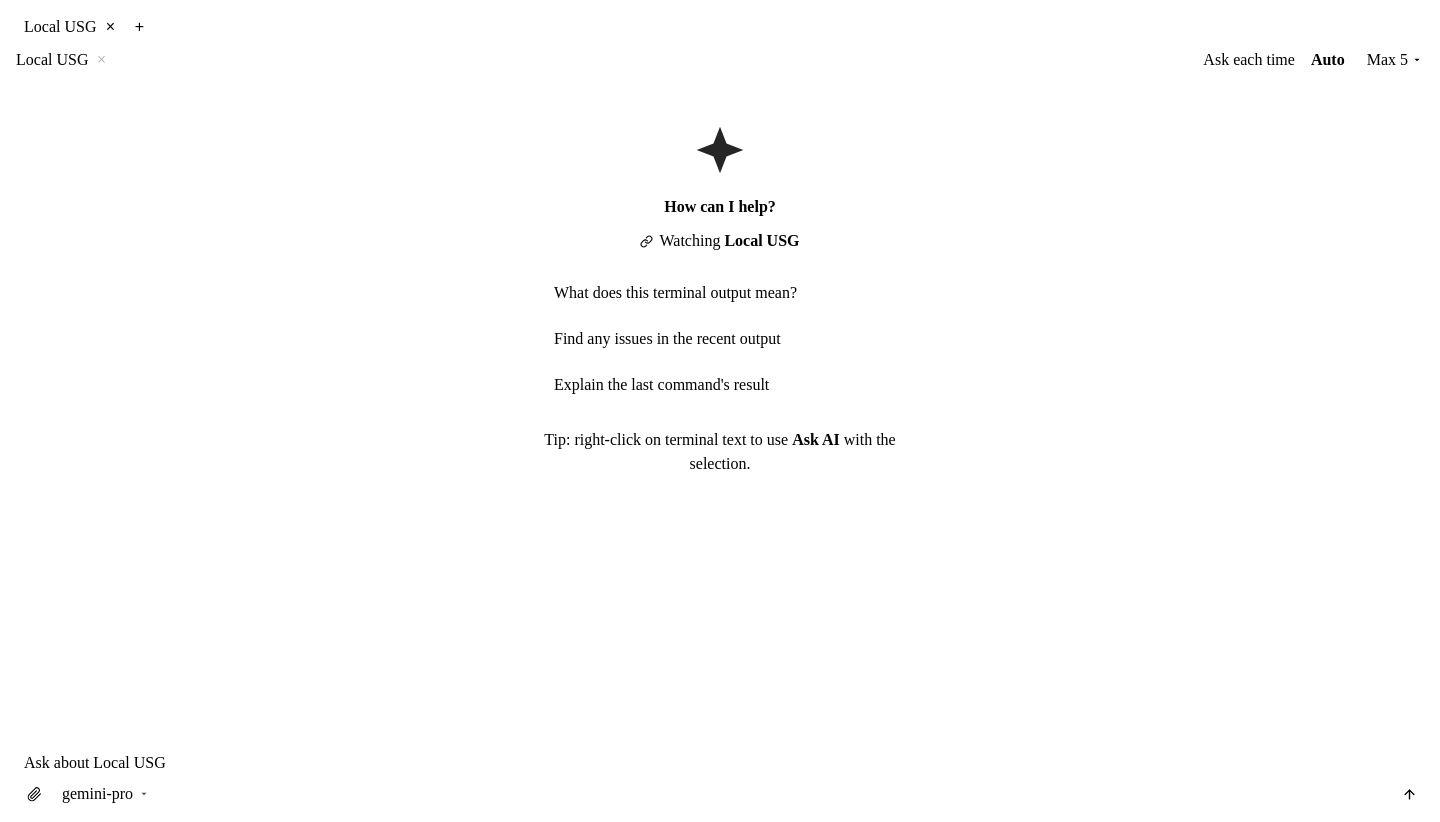
AIChatPane connect card — gate outcomes › auto-opens a PC shell under local-auto in auto-execute mode
Type "ping the gateway" into the text box with placeholder "Ask about Local USG".
click(721, 762); type("ping the gateway")  # box left=20, top=748, right=1422, bottom=776
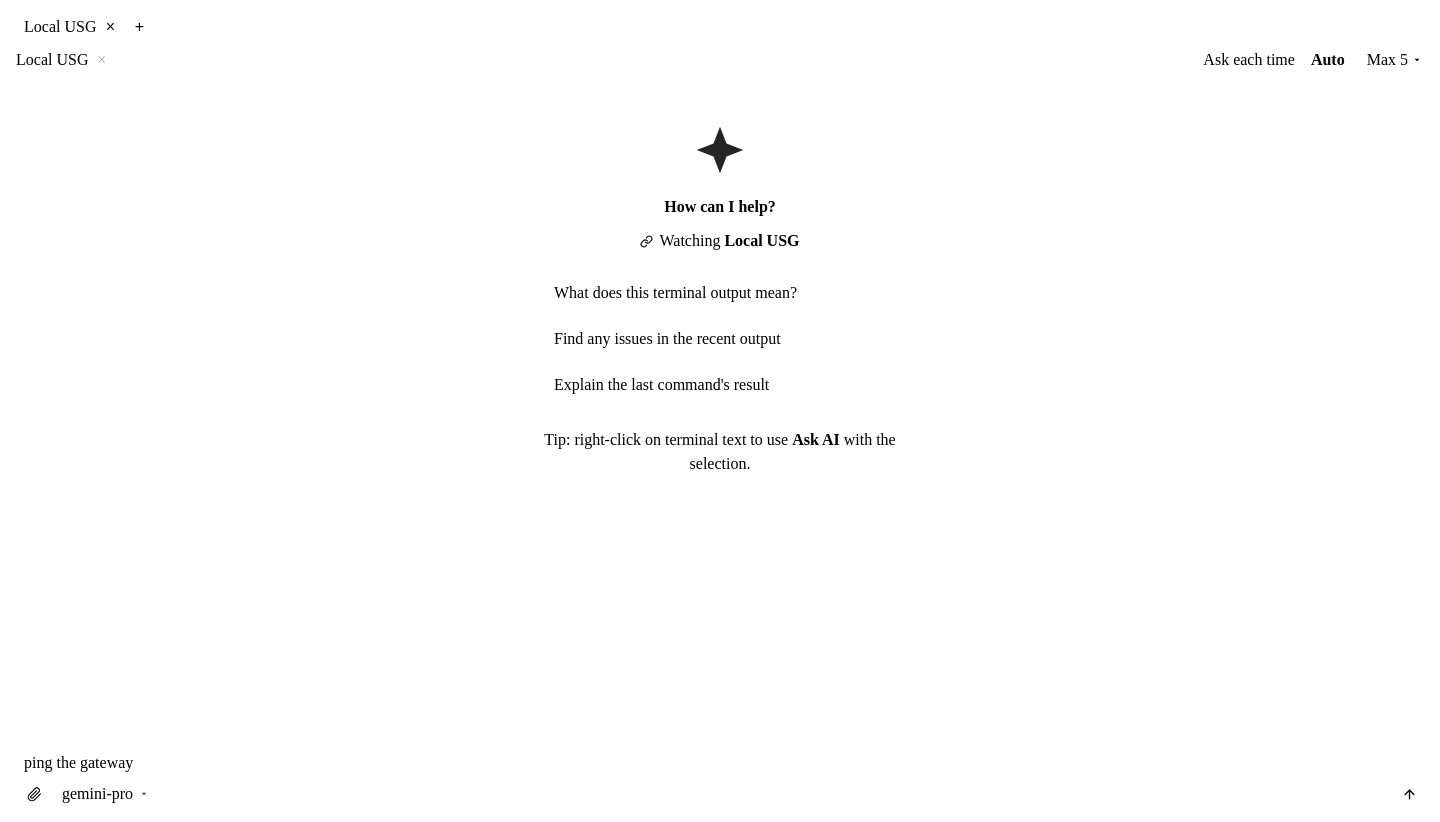
Press Enter in the text box with placeholder "Ask about Local USG", box left=20, top=748, right=1422, bottom=776
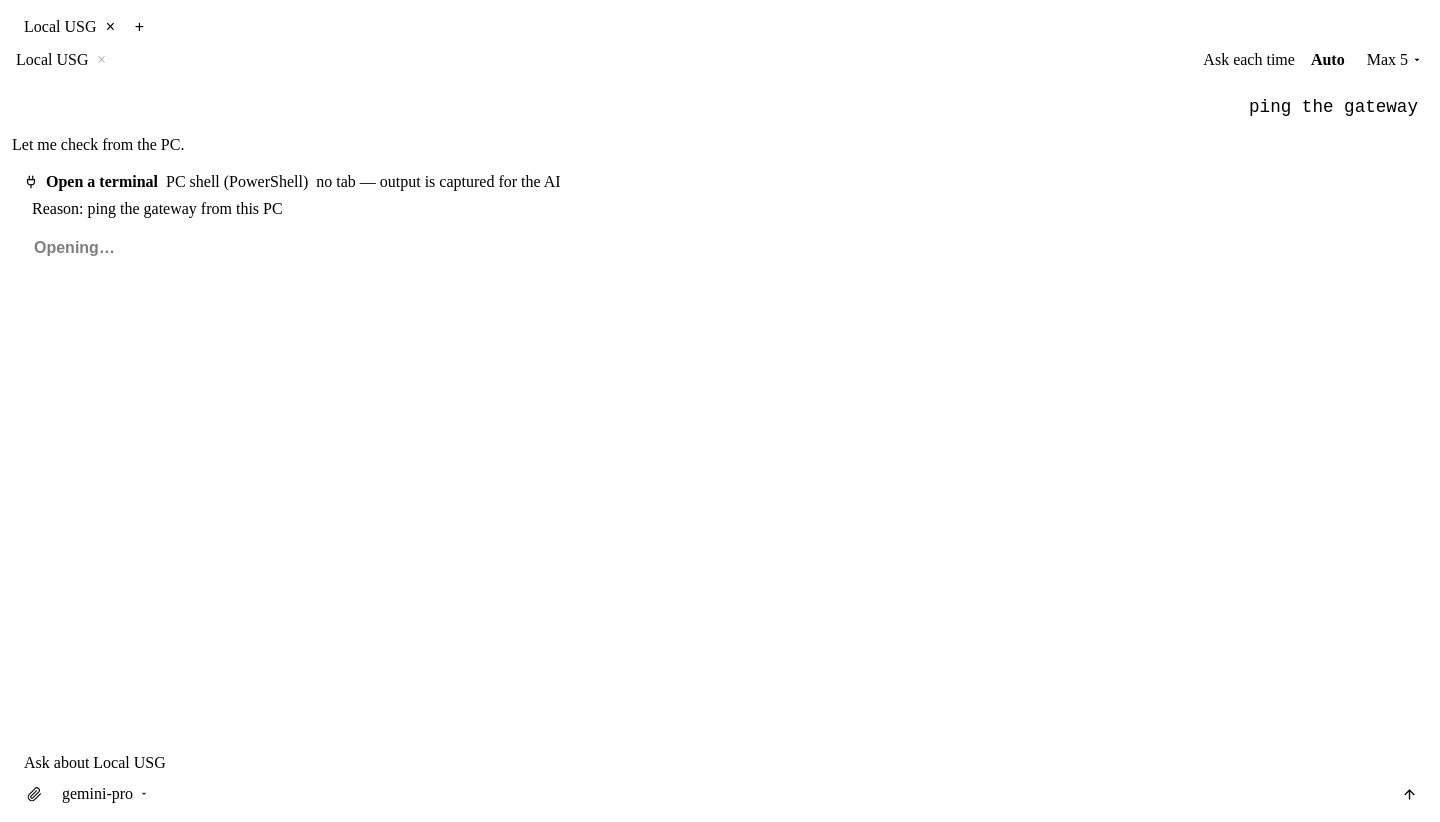
Result: the element with test id "ai-connect-card" is shown at left=22, top=173, right=561, bottom=261
Result: the button "Opening…" is shown at left=22, top=235, right=127, bottom=261
